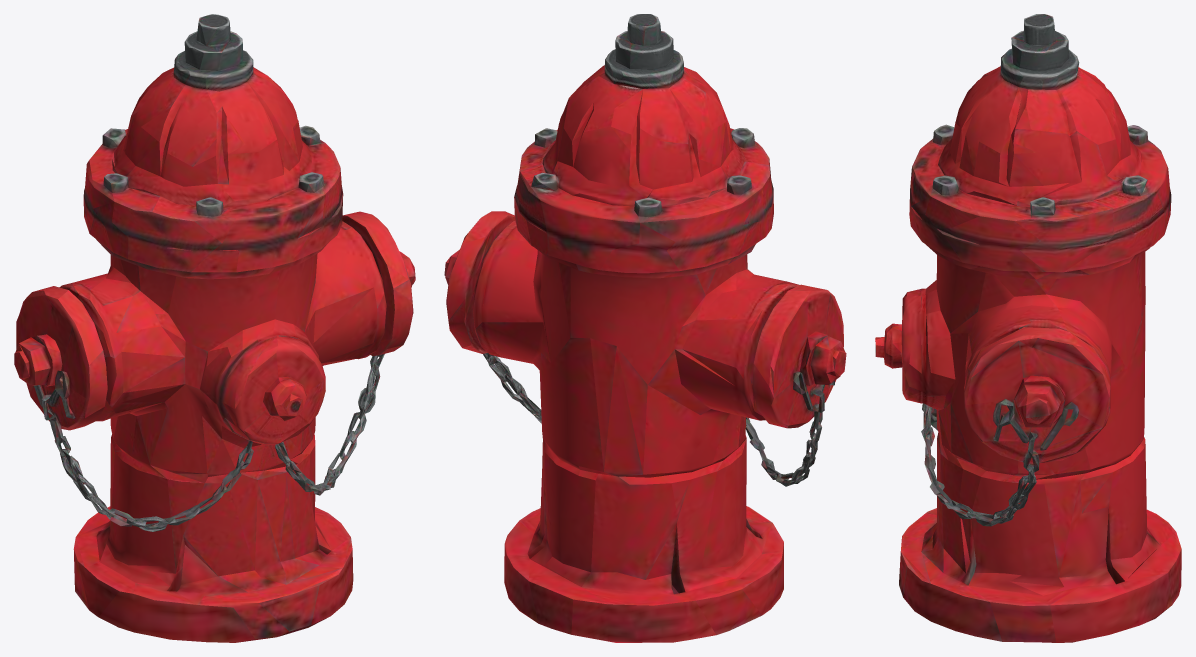
Rendered from hydrant.glb.
The picture shows the model from 3 angles, left to right: view 1: azimuth 30°, elevation 25°; view 2: azimuth 150°, elevation 25°; view 3: azimuth 270°, elevation 25°; orthographic projection.
Parts seen in each view (by area): view 1: output_unwrapped; view 2: output_unwrapped; view 3: output_unwrapped.
Boxes of the visible parts, bbox=[...] form: output_unwrapped: bbox=[14, 14, 415, 642]; output_unwrapped: bbox=[444, 14, 846, 642]; output_unwrapped: bbox=[875, 14, 1181, 642].
Bounding box in the file's own units: 1.38 × 1.9 × 0.9323.
1 material, 1 textured.
